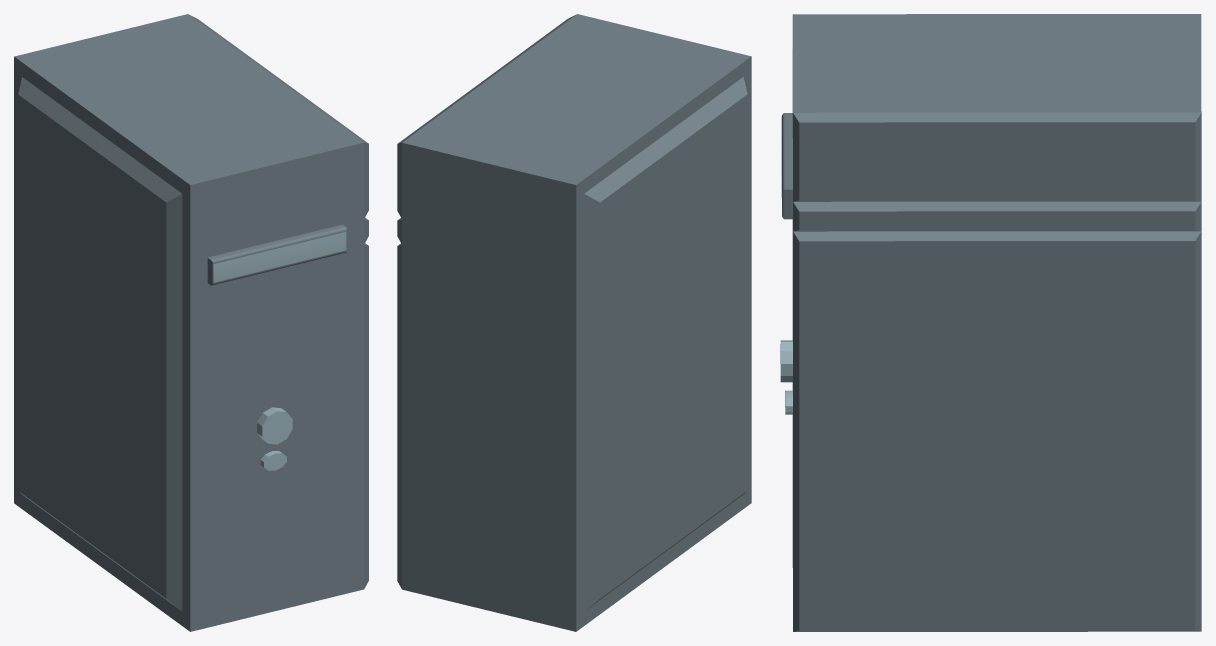
The model's file is Computer-Case.fbx.
The picture shows the model from 3 angles, left to right: view 1: azimuth 30°, elevation 25°; view 2: azimuth 150°, elevation 25°; view 3: azimuth 270°, elevation 25°; orthographic projection. The views are drawn at different scales.
Visible parts, largest first — view 1: Computer-Case; view 2: Computer-Case; view 3: Computer-Case.
Boxes of the visible parts, x1,y1,x2,y2 form: Computer-Case: (14, 14, 368, 631); Computer-Case: (397, 14, 751, 631); Computer-Case: (780, 14, 1201, 631).
Size of the model in its own units: 0.2962 by 0.6601 by 0.4851.
